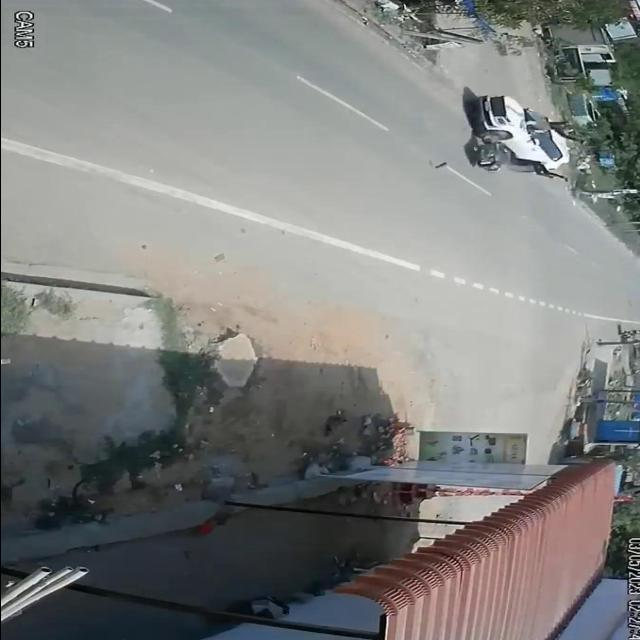accident: (441, 92, 594, 188)
